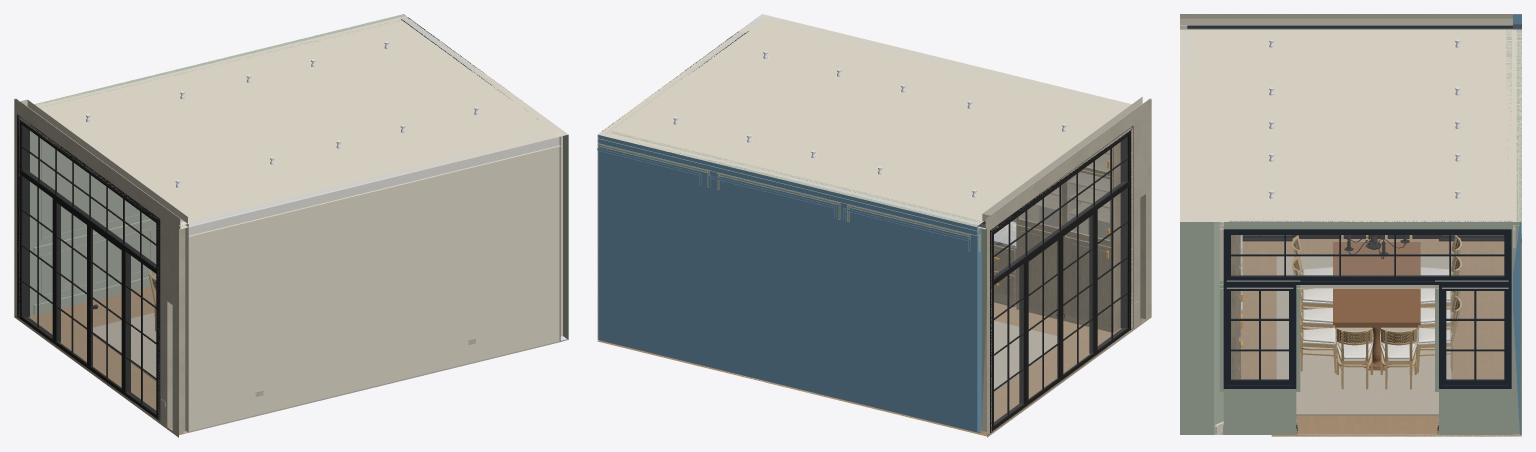
The model's file is dining-room-7e80cbc5c62d.glb.
3 renders of one model, left to right at view 1: azimuth 30°, elevation 25°; view 2: azimuth 150°, elevation 25°; view 3: azimuth 270°, elevation 25°, orthographic. The views are drawn at different scales.
Parts seen in each view (by area): view 1: dining-room-d999b7e09afcf2f4, dining-room-2575515a05775d9e, dining-room-08d72923bcfd3529, dining-room-b19b106fc304963c, dining-room-6ee65e99bea3721a, dining-room-3b0077416469e01b, dining-room-a6417c3a9acf4891, dining-room-9d465714b306dbae, dining-room-33ee0b466567e5f0, dining-room-871e2e831c6190fa, dining-room-d33eebe572d154f2, dining-room-8b1c368f4645b32b (+7 smaller); view 2: dining-room-b19b106fc304963c, dining-room-2575515a05775d9e, dining-room-08d72923bcfd3529, dining-room-6ee65e99bea3721a, dining-room-3b0077416469e01b, dining-room-1bf7a67d8ce0efe5, dining-room-039192b0560cfac3, dining-room-33ee0b466567e5f0, dining-room-871e2e831c6190fa, dining-room-2c2ea765d431e5a6, dining-room-478b3d72e55116fc, dining-room-8b1c368f4645b32b (+10 smaller); view 3: dining-room-2575515a05775d9e, dining-room-98d6adcddba0b27e, dining-room-31023c09b8d733cb, dining-room-3b0077416469e01b, dining-room-871e2e831c6190fa, dining-room-04e6278159fe4ee8, dining-room-ad953dfeb3e994ba, dining-room-1ce065e69c1a4746, dining-room-9b21989b25895c4a, dining-room-8d0c89bf27e198bd, dining-room-33ee0b466567e5f0, dining-room-d33eebe572d154f2 (+18 smaller).
Part boxes in pixels (x1,y1,x2,y2): dining-room-d999b7e09afcf2f4: (188,133,559,431); dining-room-2575515a05775d9e: (15,14,568,229); dining-room-08d72923bcfd3529: (17,114,160,421); dining-room-b19b106fc304963c: (30,17,400,315); dining-room-6ee65e99bea3721a: (18,109,175,432); dining-room-3b0077416469e01b: (14,286,156,403); dining-room-a6417c3a9acf4891: (188,136,560,236); dining-room-9d465714b306dbae: (175,221,188,434); dining-room-33ee0b466567e5f0: (18,99,187,225); dining-room-871e2e831c6190fa: (86,312,156,380); dining-room-d33eebe572d154f2: (556,132,568,341); dining-room-8b1c368f4645b32b: (34,14,405,104); dining-room-b19b106fc304963c: (597,133,980,432); dining-room-2575515a05775d9e: (597,14,1150,229); dining-room-08d72923bcfd3529: (990,126,1133,432); dining-room-6ee65e99bea3721a: (982,108,1148,431); dining-room-3b0077416469e01b: (597,319,1107,436); dining-room-1bf7a67d8ce0efe5: (1016,142,1120,332); dining-room-039192b0560cfac3: (977,216,991,434); dining-room-33ee0b466567e5f0: (982,96,1151,222); dining-room-871e2e831c6190fa: (994,320,1066,392); dining-room-2c2ea765d431e5a6: (1069,243,1107,320); dining-room-478b3d72e55116fc: (1020,231,1057,308); dining-room-8b1c368f4645b32b: (597,138,979,235); dining-room-2575515a05775d9e: (1180,14,1521,221); dining-room-98d6adcddba0b27e: (1223,229,1511,284); dining-room-31023c09b8d733cb: (1223,219,1521,434); dining-room-3b0077416469e01b: (1271,239,1521,436); dining-room-871e2e831c6190fa: (1276,256,1451,415); dining-room-04e6278159fe4ee8: (1223,285,1296,388); dining-room-ad953dfeb3e994ba: (1439,285,1511,388); dining-room-1ce065e69c1a4746: (1333,242,1420,370); dining-room-9b21989b25895c4a: (1191,218,1223,434); dining-room-8d0c89bf27e198bd: (1216,241,1271,434); dining-room-33ee0b466567e5f0: (1180,14,1512,25); dining-room-d33eebe572d154f2: (1180,222,1191,434).
Size of the model in its own units: 5.95 by 3.19 by 4.36.
40 materials, 11 textured.
